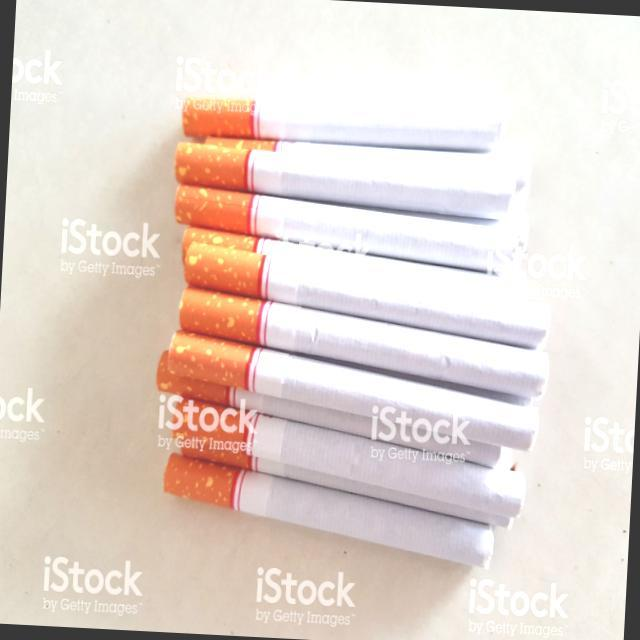cigarette: (178, 72, 518, 150)
